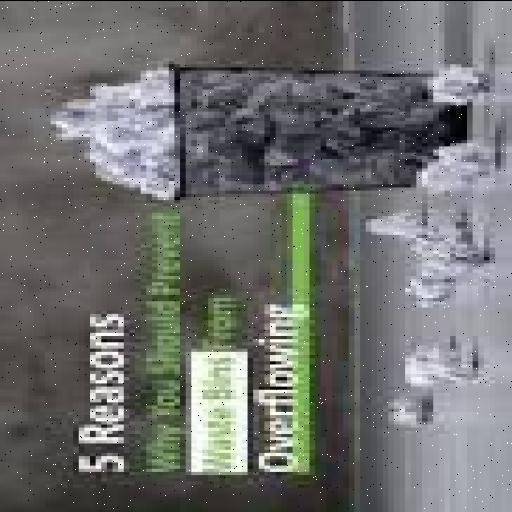poubelle_pleine: (75, 55, 475, 209)
